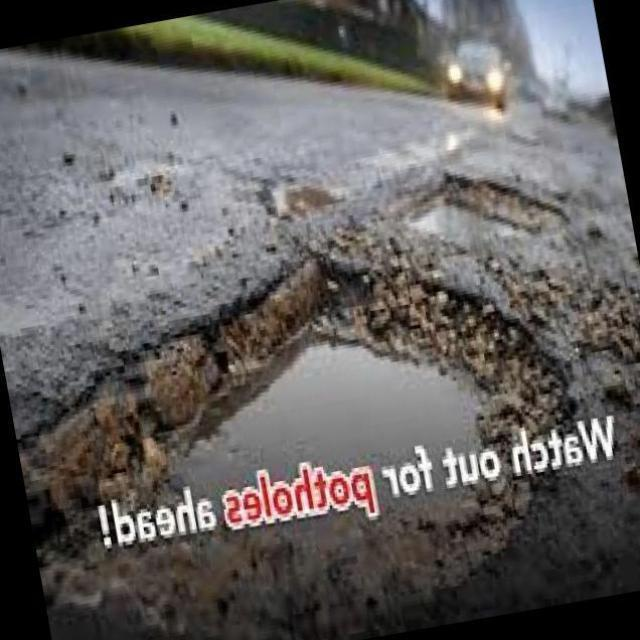Pathole: (38, 257, 569, 633)
